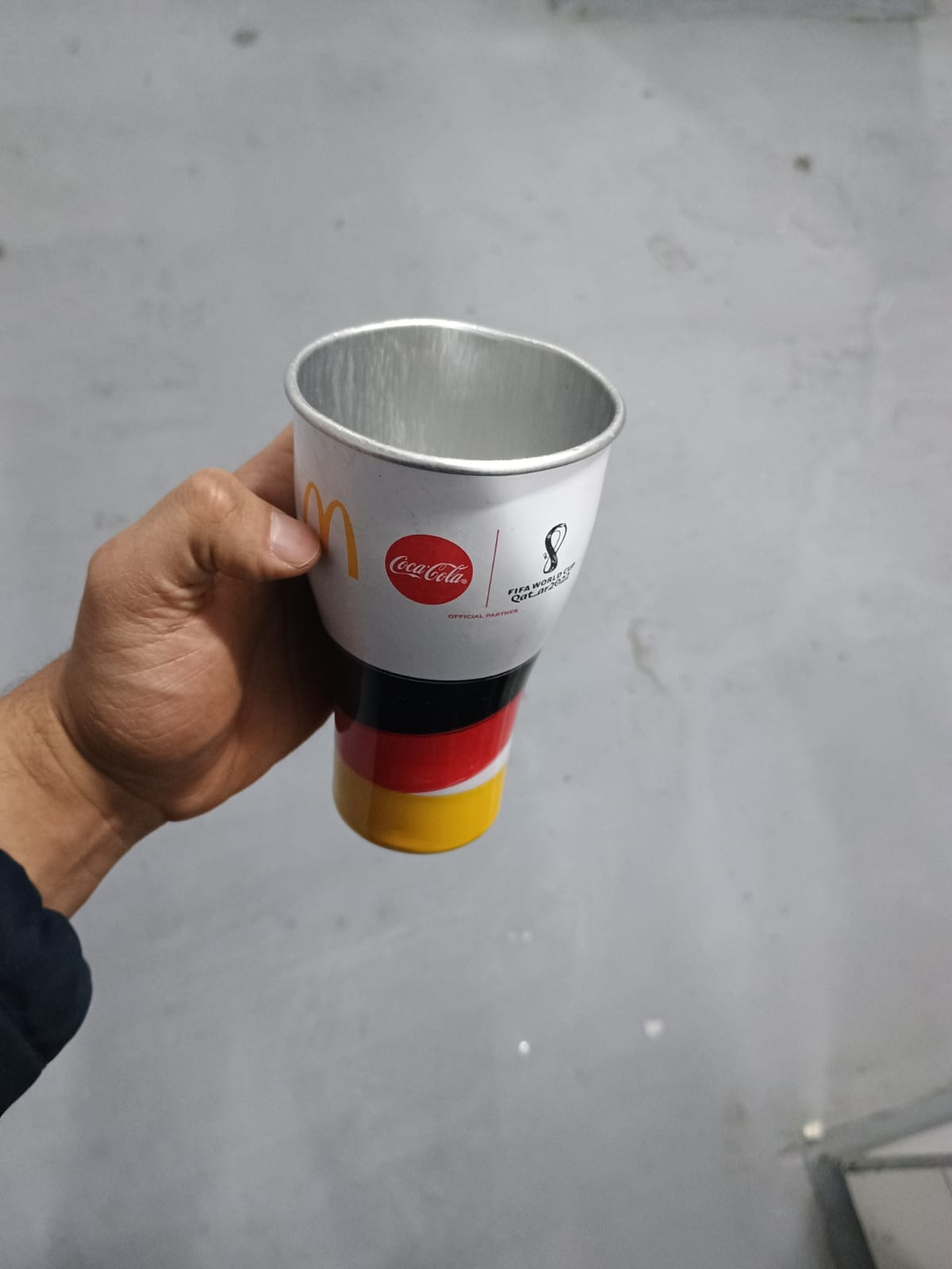Metal: (283, 311, 621, 855)
